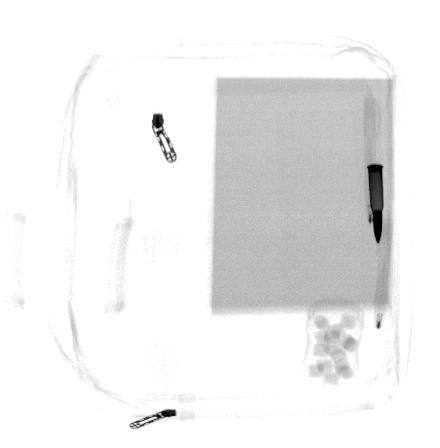Bullet: (367, 164, 385, 247)
